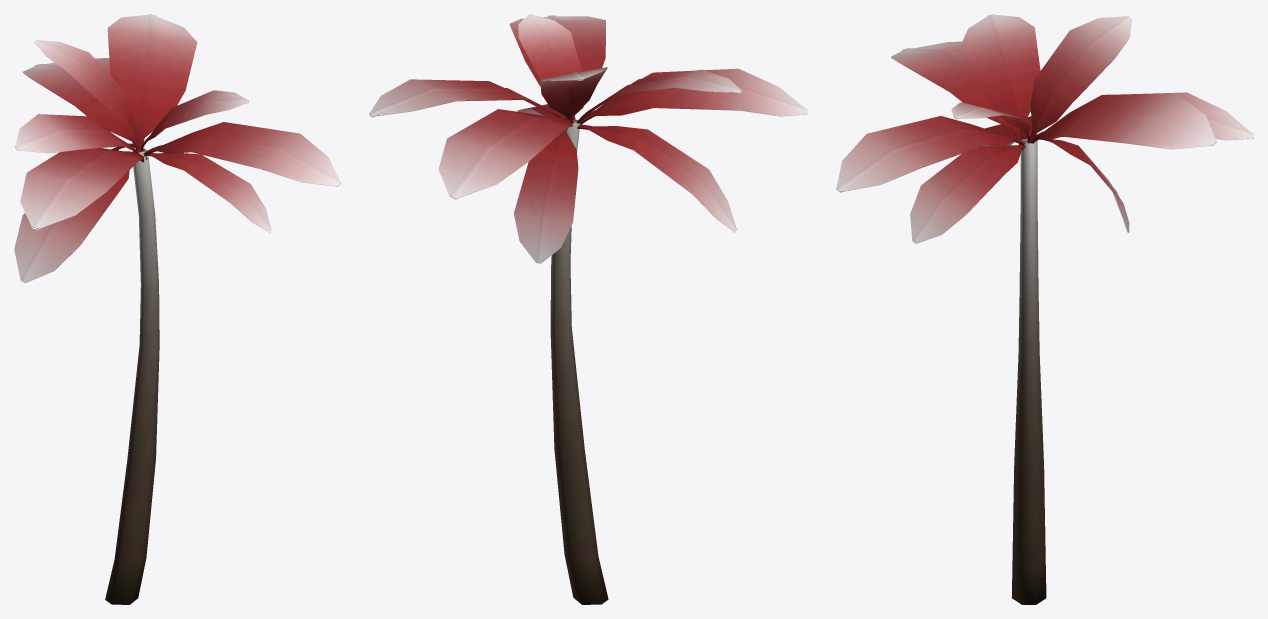
The model's file is M_Root_PalmTree02.fbx.
3 views of the same model, side by side, from view 1: azimuth 30°, elevation 25°; view 2: azimuth 150°, elevation 25°; view 3: azimuth 270°, elevation 25° (orthographic). The views are drawn at different scales.
Visible parts, largest first — view 1: M_Root_PalmTree02; view 2: M_Root_PalmTree02; view 3: M_Root_PalmTree02.
Boxes of the visible parts, x1=… form: M_Root_PalmTree02: x1=14, y1=14, x2=340, y2=604; M_Root_PalmTree02: x1=369, y1=14, x2=807, y2=604; M_Root_PalmTree02: x1=836, y1=14, x2=1253, y2=604.
Size of the model in its own units: 252 by 454 by 305.
1 material, 1 textured.
